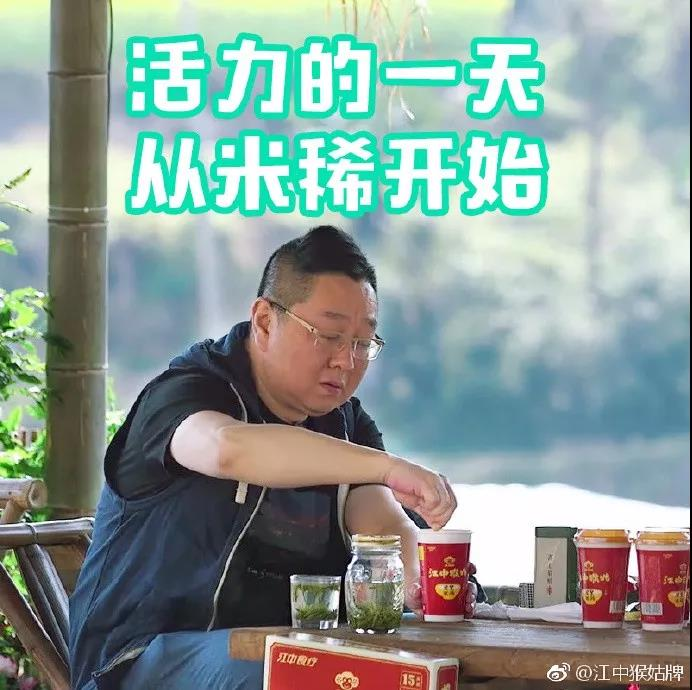box: (263, 629, 460, 690)
cup: (577, 528, 632, 629), (417, 527, 472, 624), (636, 529, 688, 630)
